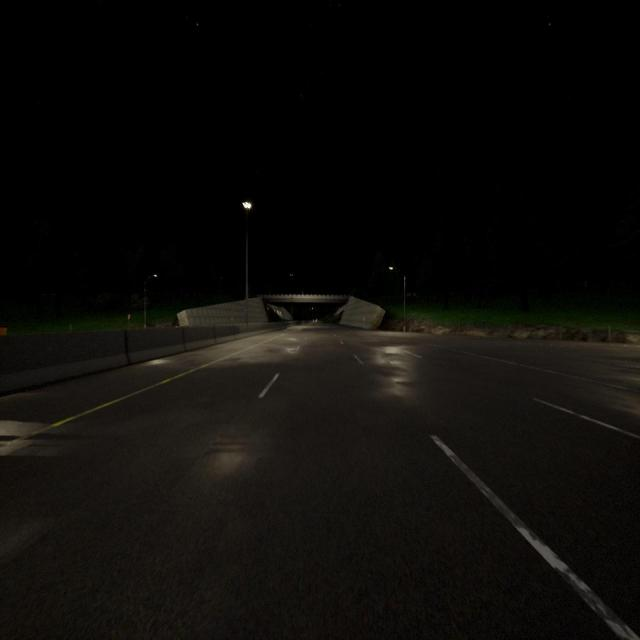Traffic_Signs: (362, 316, 366, 322)
